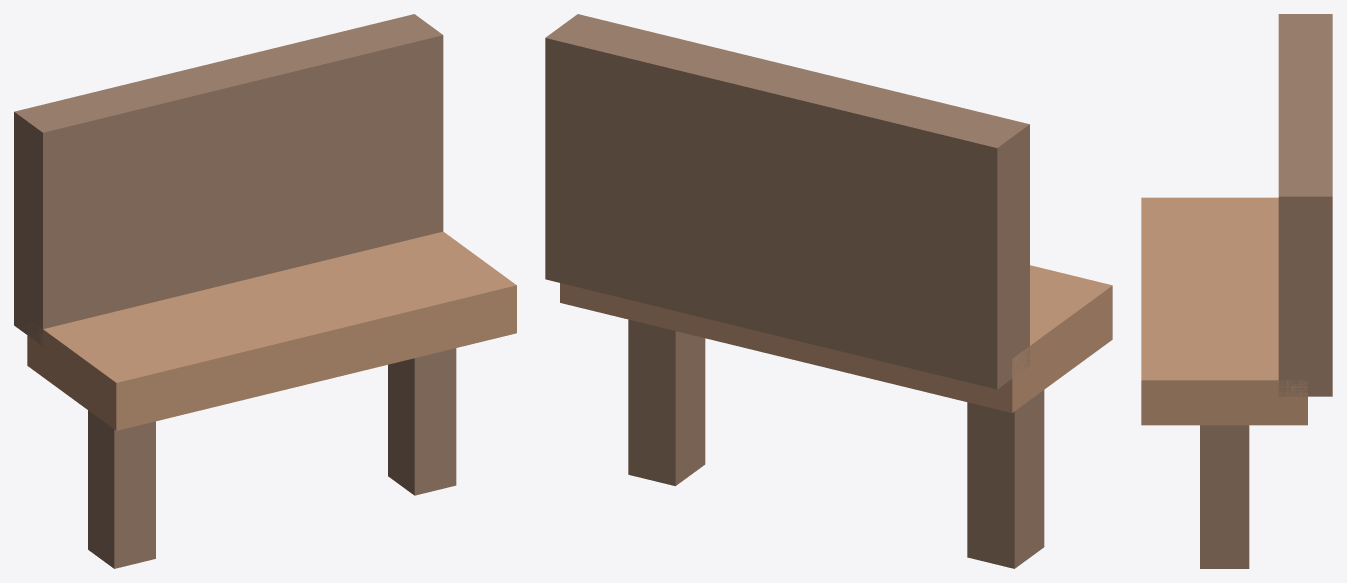
File: Bench_Short.glb
The picture shows the model from 3 angles, left to right: view 1: azimuth 30°, elevation 25°; view 2: azimuth 150°, elevation 25°; view 3: azimuth 270°, elevation 25°; orthographic projection. The views are drawn at different scales.
Visible parts, largest first — view 1: back_1, seat_0, leg_2, leg_3; view 2: back_1, seat_0, leg_2, leg_3; view 3: seat_0, back_1, leg_3.
Part boxes in pixels (bbox=[...]): back_1: bbox=[14, 14, 443, 345]; seat_0: bbox=[27, 231, 516, 430]; leg_2: bbox=[88, 410, 155, 568]; leg_3: bbox=[388, 348, 456, 495]; back_1: bbox=[545, 14, 1029, 389]; seat_0: bbox=[560, 265, 1112, 412]; leg_2: bbox=[967, 390, 1044, 568]; leg_3: bbox=[628, 319, 705, 486]; seat_0: bbox=[1141, 197, 1307, 425]; back_1: bbox=[1278, 14, 1332, 396]; leg_3: bbox=[1200, 425, 1249, 568].
Size of the model in its own units: 0.96 by 0.945 by 0.425.
